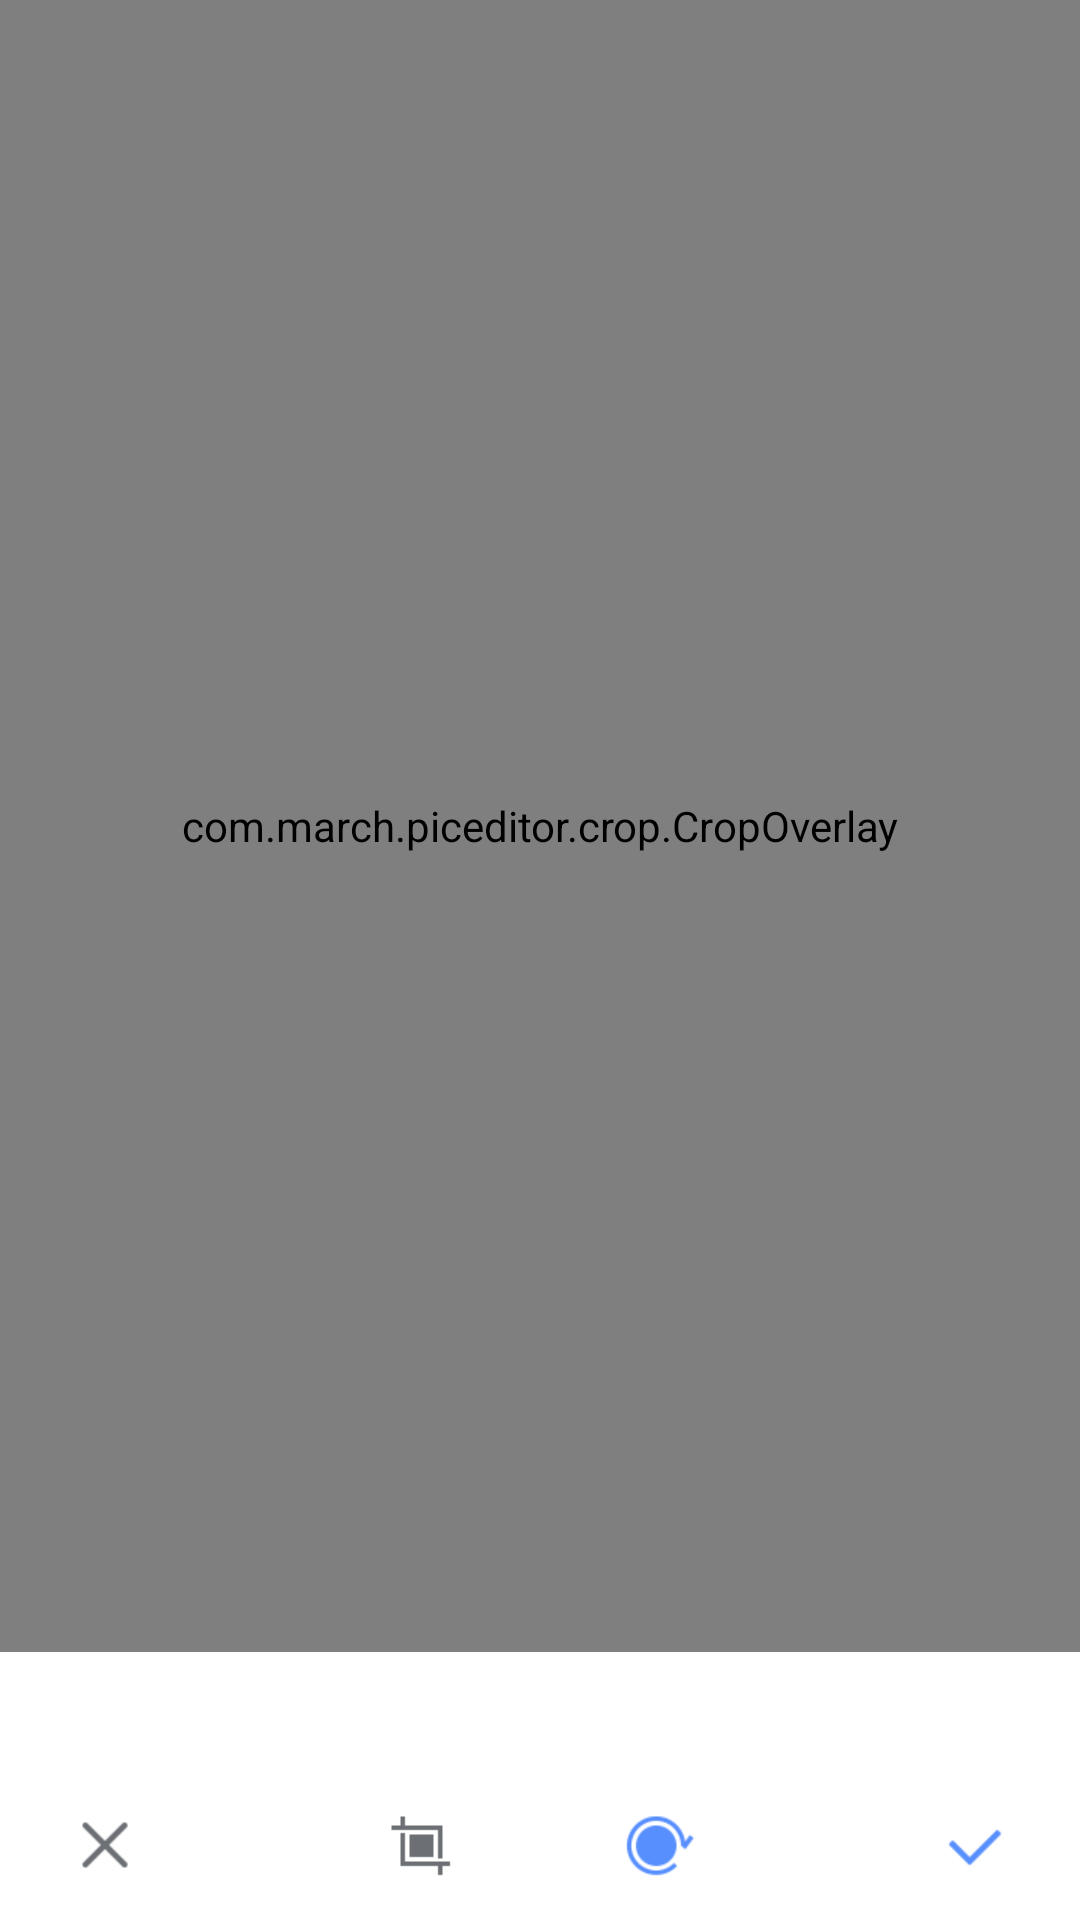

Screen size 1080px x 1920px. Icon name, then its box in pixels as (x1, y1, x2, y2):
close: (82, 1822, 128, 1868)
edit tab clip: (391, 1816, 451, 1876)
edit tab rotate: (626, 1816, 694, 1876)
